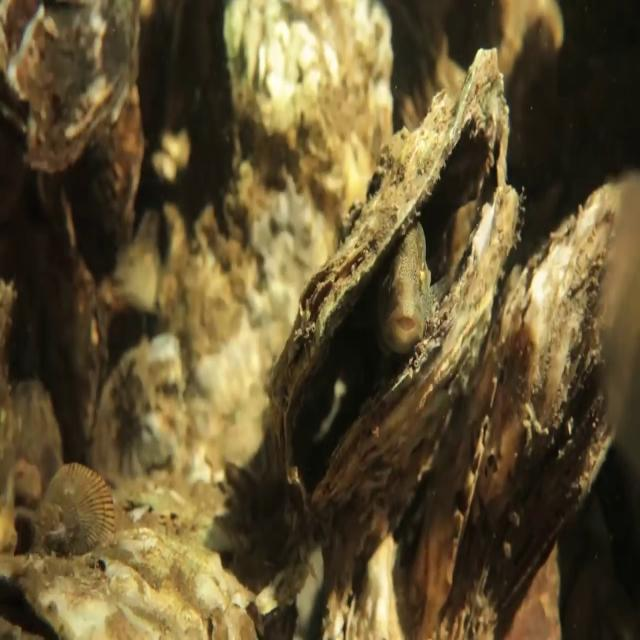Oyster-Closed: (425, 164, 635, 624)
Oyster-Indeterminate: (218, 0, 393, 335), (2, 76, 103, 466), (0, 0, 143, 177)
Oyster-Open: (262, 43, 518, 535)
